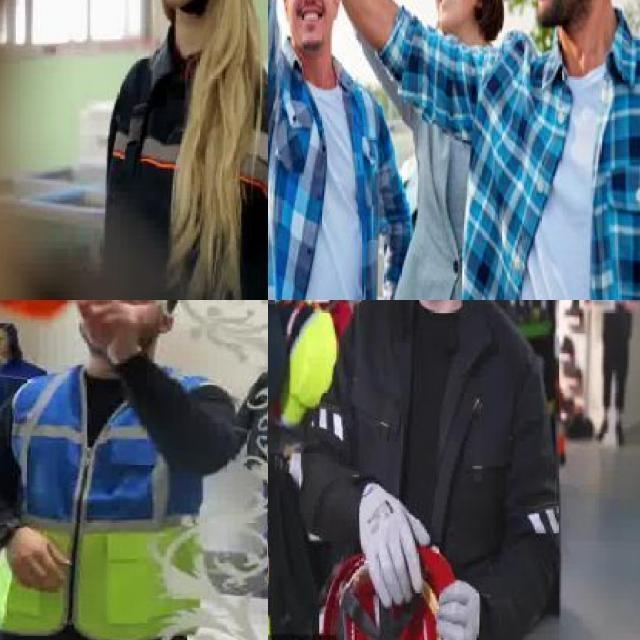apron: (358, 485, 432, 610), (435, 579, 481, 640)
